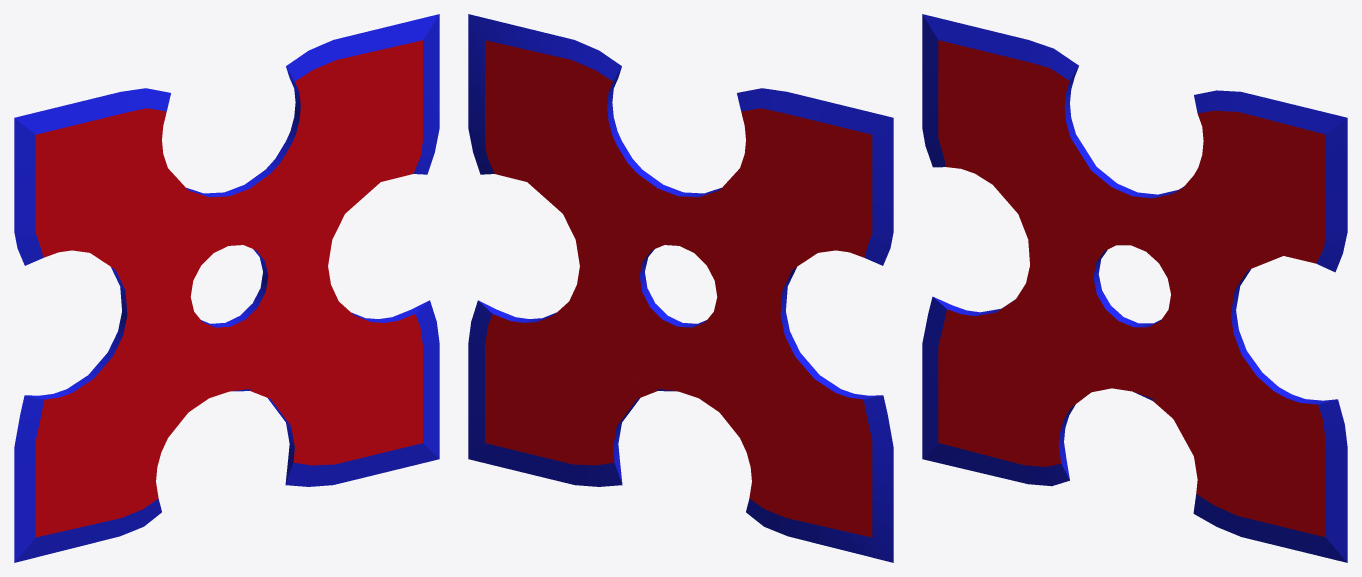
The model's file is Shuriken_6.fbx.
3 renders of one model, left to right at view 1: azimuth 30°, elevation 25°; view 2: azimuth 150°, elevation 25°; view 3: azimuth 330°, elevation 25°, orthographic.
Parts seen in each view (by area): view 1: Shuriken_6; view 2: Shuriken_6; view 3: Shuriken_6.
Boxes of the visible parts, <box> form: Shuriken_6: <box>14,14,439,562</box>; Shuriken_6: <box>468,14,893,562</box>; Shuriken_6: <box>922,14,1347,562</box>.
Size of the model in its own units: 2 by 2 by 0.0431.
